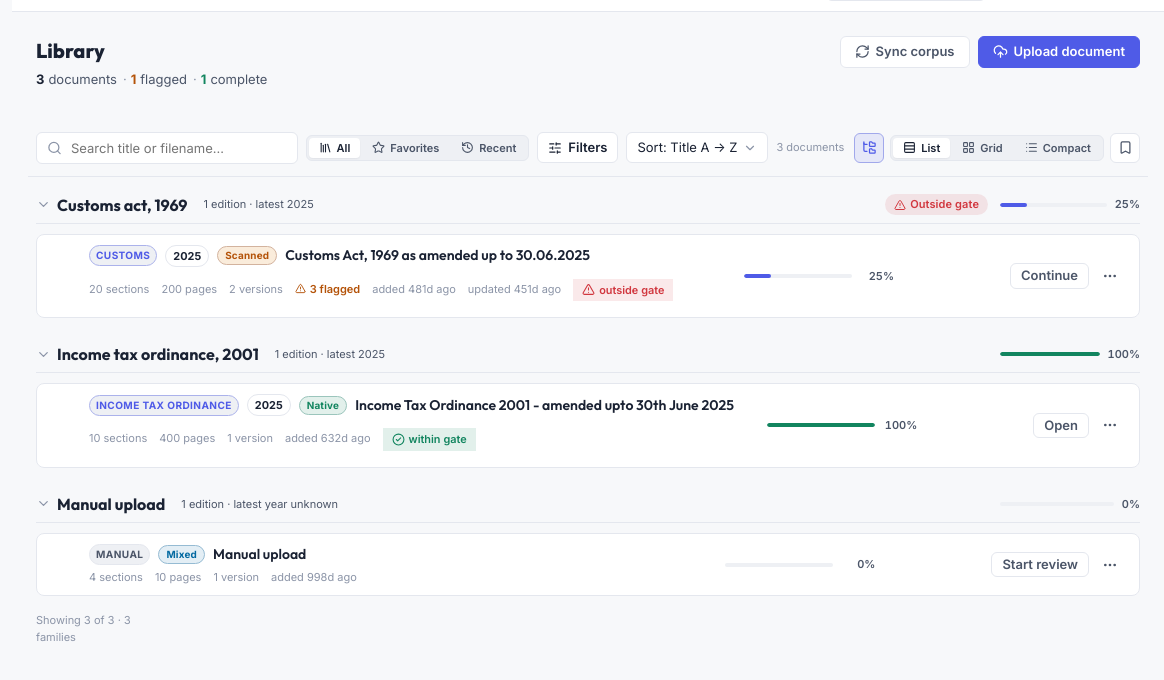
it: Library page › offers grouped sort options and commits the choice to the URL
Expected: the text "3 documents" is shown, [776,139,844,156]
Click the button with aria-label "Sort documents" at (697, 148), box [626,132,768,163]
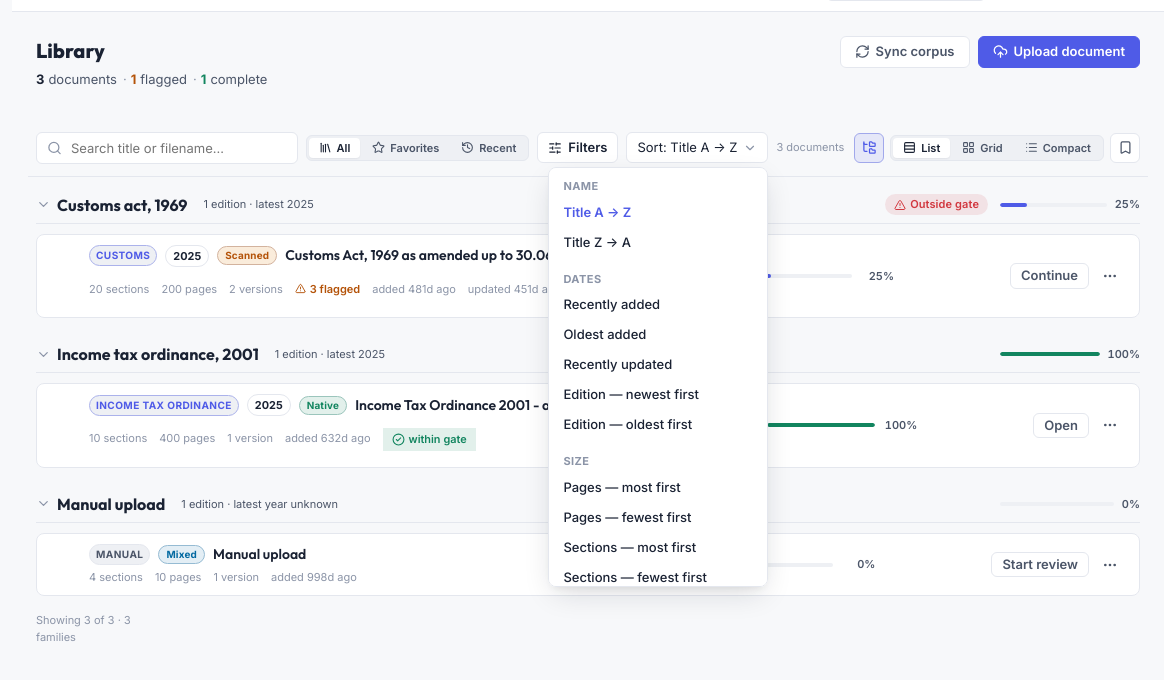
Result: the menu item "Recently updated" is shown at [553,349,763,379]
Result: the menu item "Pages — most first" is shown at [553,472,763,502]
Click the menu item "Recently added" at (658, 304), box [553,289,763,319]
(page scrolled)
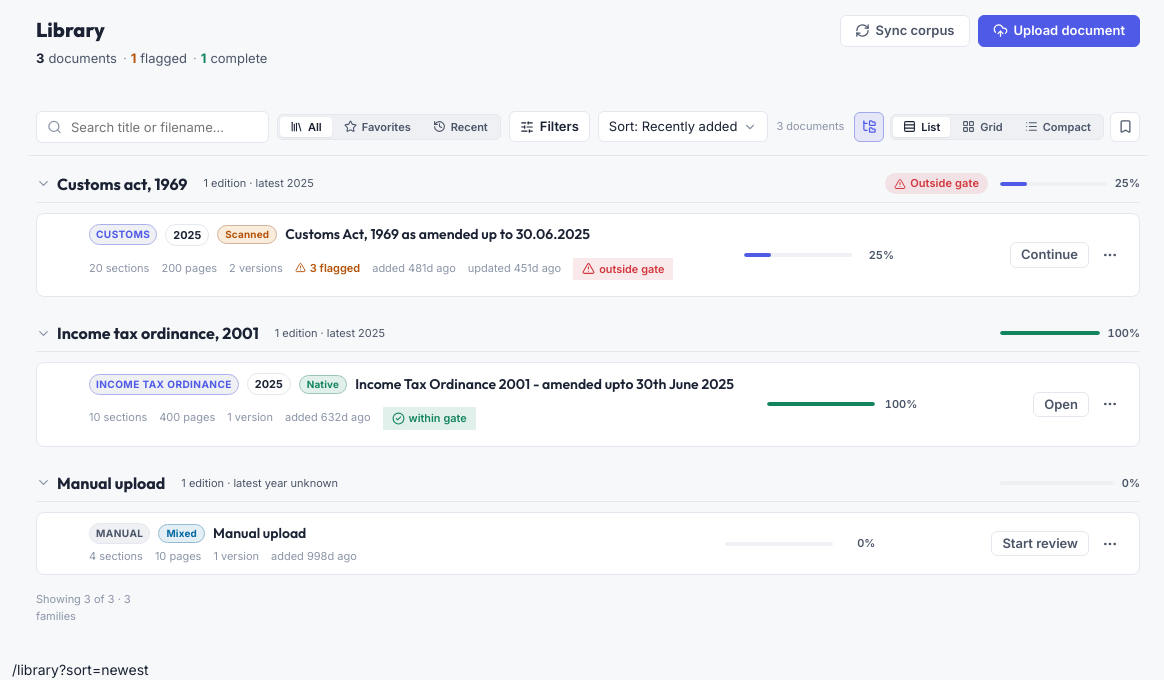
Result: the button with aria-label "Sort documents" shows "Recently added" at [598,111,768,142]
Result: the text with test id "location" shows "sort=newest" at [59,661,149,678]
